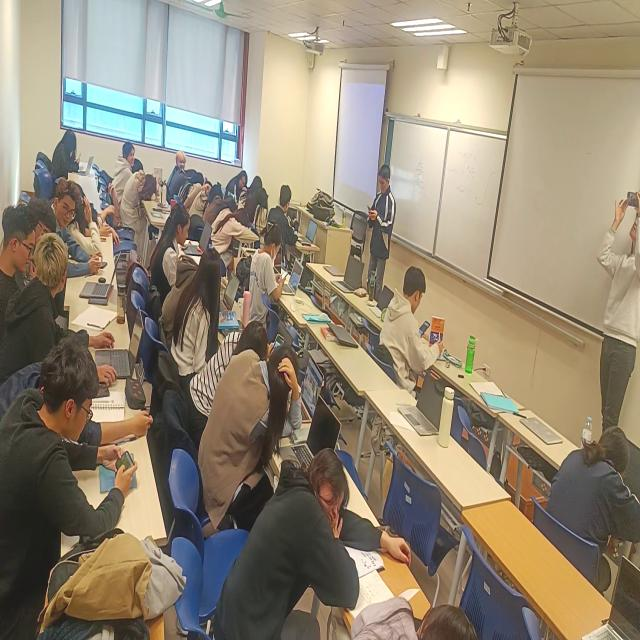raise_head: (171, 239, 227, 378), (111, 140, 138, 195)
sleep: (209, 447, 418, 640), (544, 401, 640, 587), (199, 343, 304, 499), (188, 312, 270, 426), (120, 165, 159, 239), (211, 204, 260, 252), (242, 184, 271, 232), (191, 179, 221, 218), (167, 162, 197, 200), (204, 193, 237, 224), (177, 178, 212, 207)
stand: (593, 172, 640, 431), (362, 158, 398, 290)
using_computer: (149, 200, 196, 294), (269, 179, 316, 259)
using_phone: (1, 334, 137, 619), (379, 262, 448, 382), (246, 217, 292, 326), (51, 127, 83, 179)
